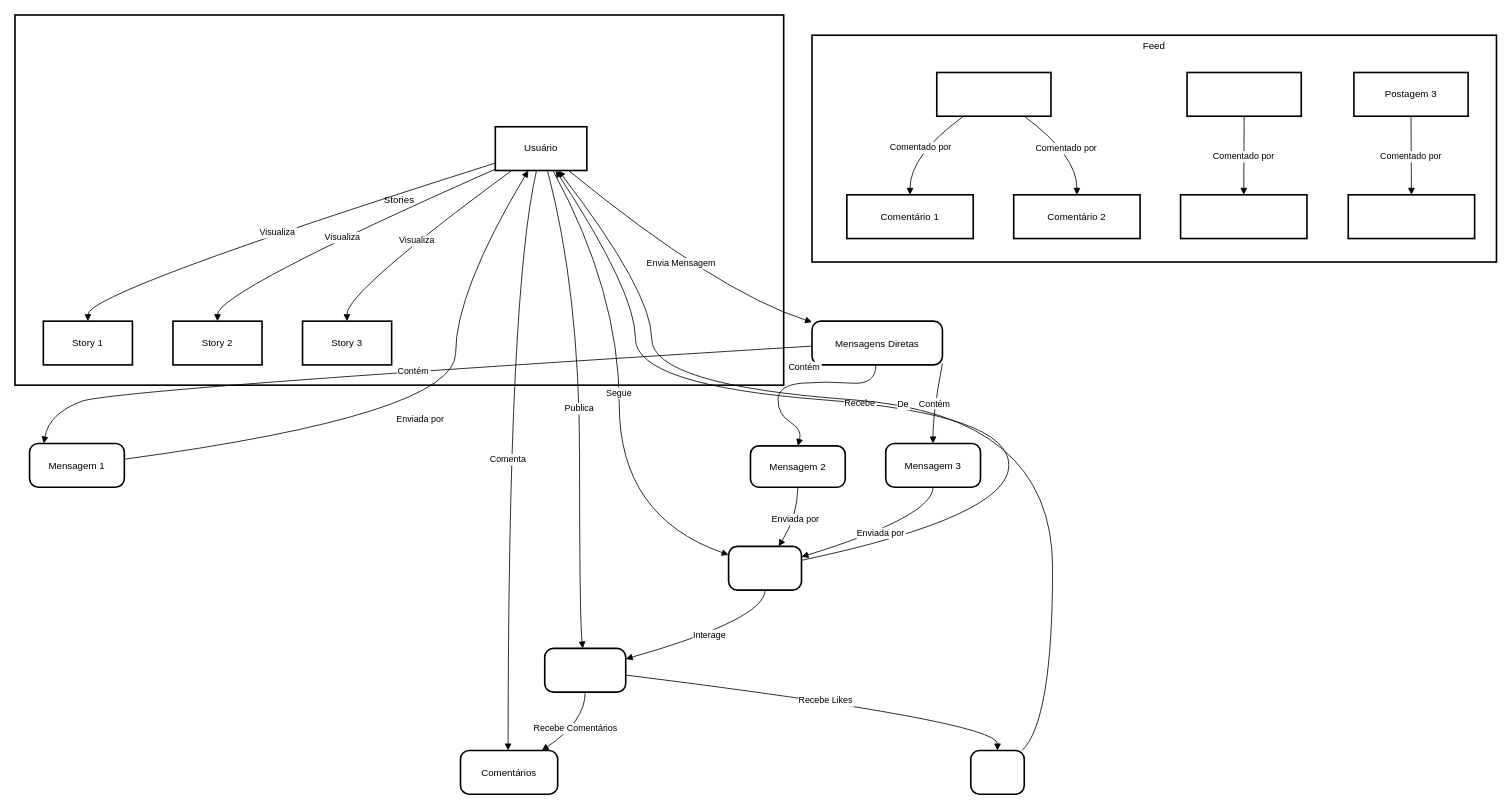
Some shapes in this 1511 by 808 pixel diagram are drawn without their labels. Here are the shapes that lost their labels. From the top down, the centre of each, then its label:
At point 993,94: "Postagem 1".
At point 1244,94: "Postagem 2".
At point 1243,216: "Comentário 3".
At point 1411,216: "Comentário 4".
At point 764,567: "Usuários".
At point 585,670: "Postagens".
At point 997,772: "Likes".
